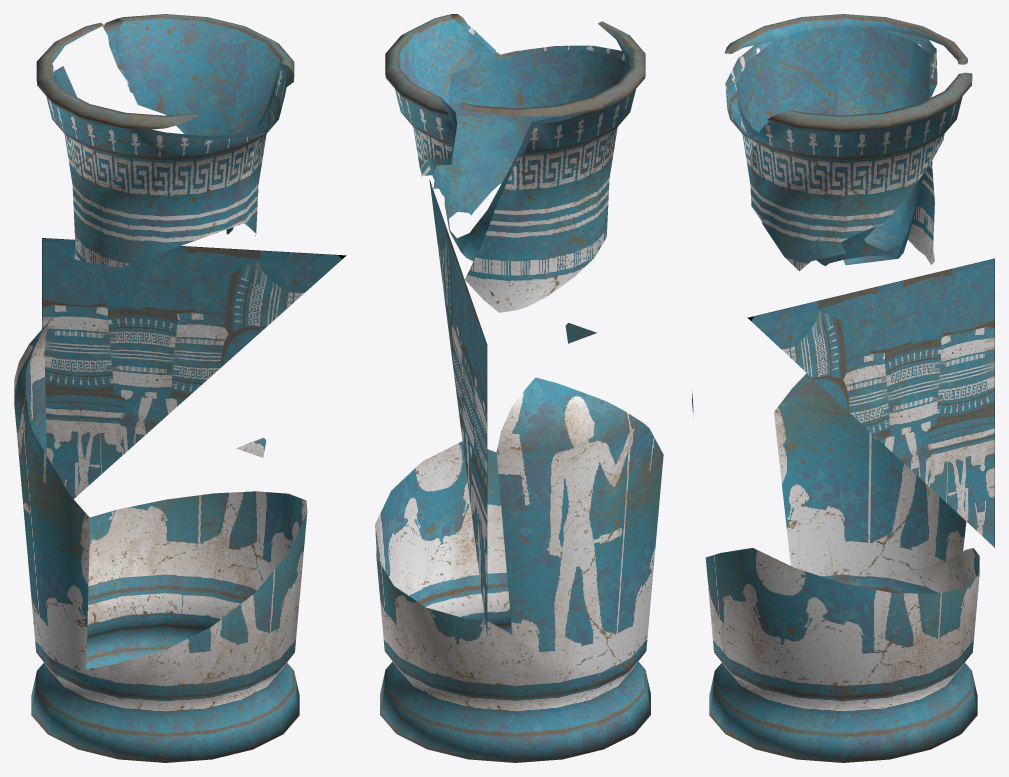
Rendered from s5-7pieces.fbx.
3 renders of one model, left to right at view 1: azimuth 30°, elevation 25°; view 2: azimuth 150°, elevation 25°; view 3: azimuth 270°, elevation 25°, orthographic.
Visible parts, largest first — view 1: vase_A_S5_cell, vase_A_S5_cell.004, vase_A_S5_cell.003, vase_A_S5_cell.006, vase_A_S5_cell.005, vase_A_S5_cell.001; view 2: vase_A_S5_cell, vase_A_S5_cell.005, vase_A_S5_cell.003, vase_A_S5_cell.006, vase_A_S5_cell.004, vase_A_S5_cell.001; view 3: vase_A_S5_cell, vase_A_S5_cell.004, vase_A_S5_cell.005, vase_A_S5_cell.003, vase_A_S5_cell.006, vase_A_S5_cell.001.
Boxes of the visible parts, x1,y1,x2,y2 form: vase_A_S5_cell: [31, 491, 307, 762]; vase_A_S5_cell.004: [42, 238, 346, 498]; vase_A_S5_cell.003: [37, 64, 274, 267]; vase_A_S5_cell.006: [103, 14, 294, 236]; vase_A_S5_cell.005: [14, 316, 90, 670]; vase_A_S5_cell.001: [36, 22, 198, 129]; vase_A_S5_cell: [375, 441, 650, 762]; vase_A_S5_cell.005: [496, 377, 663, 669]; vase_A_S5_cell.003: [433, 45, 635, 312]; vase_A_S5_cell.006: [385, 14, 499, 215]; vase_A_S5_cell.004: [429, 179, 487, 636]; vase_A_S5_cell.001: [457, 21, 645, 116]; vase_A_S5_cell: [705, 548, 979, 762]; vase_A_S5_cell.004: [747, 258, 994, 547]; vase_A_S5_cell.005: [774, 373, 966, 577]; vase_A_S5_cell.003: [725, 25, 937, 265]; vase_A_S5_cell.006: [749, 72, 972, 271]; vase_A_S5_cell.001: [724, 14, 967, 64].
Bounding box in the file's own units: 10719 × 24635 × 10581.
